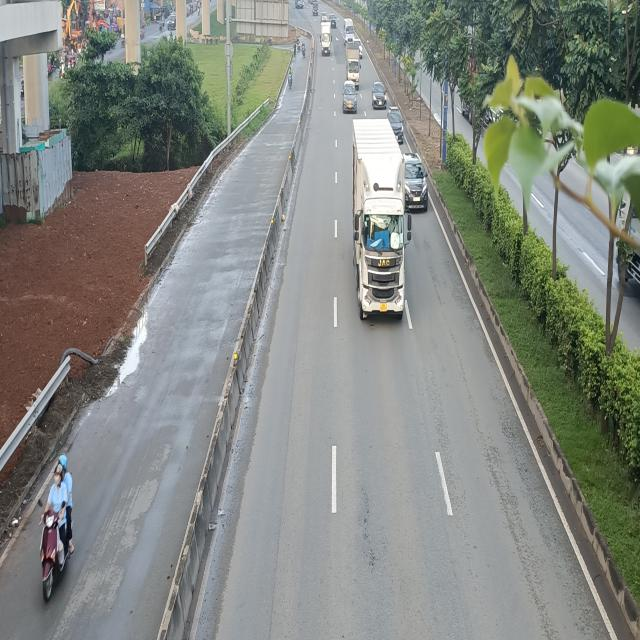car: (344, 80, 359, 114), (372, 82, 388, 111)
container: (350, 118, 410, 319)
truck: (347, 38, 362, 88), (321, 17, 332, 55)
